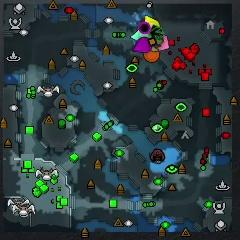p2: (130, 30, 149, 39)
p3: (132, 37, 151, 52)
p3Clone: (139, 21, 151, 34)
p4: (144, 15, 160, 28)
p5: (143, 51, 160, 62)
x1: (158, 35, 170, 51)
x2: (151, 46, 158, 52)
x4Clone: (150, 27, 163, 40)
